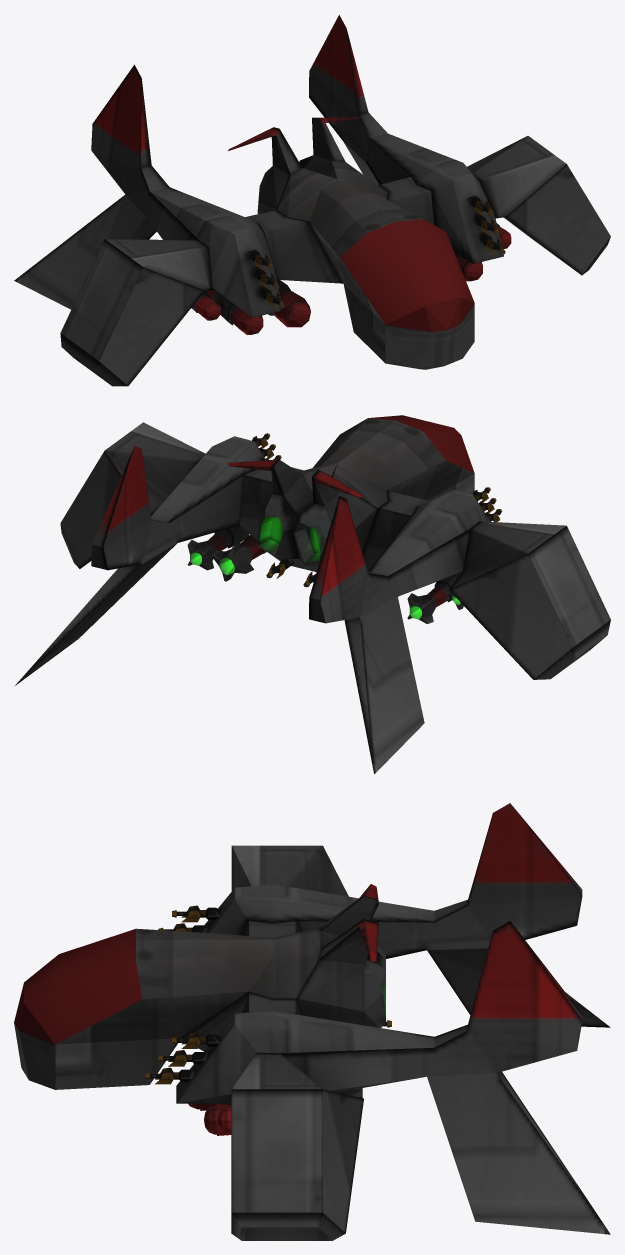
Rendered from 01ship.fbx.
The picture shows the model from 3 angles, top to bottom: view 1: azimuth 30°, elevation 25°; view 2: azimuth 150°, elevation 25°; view 3: azimuth 270°, elevation 25°; orthographic projection. The views are drawn at different scales.
Visible parts, largest first — view 1: l01; view 2: l01; view 3: l01.
Boxes of the visible parts, <box> form: l01: <box>14,15,610,386</box>; l01: <box>15,415,610,774</box>; l01: <box>14,803,610,1240</box>.
Size of the model in its own units: 381 by 162 by 326.
